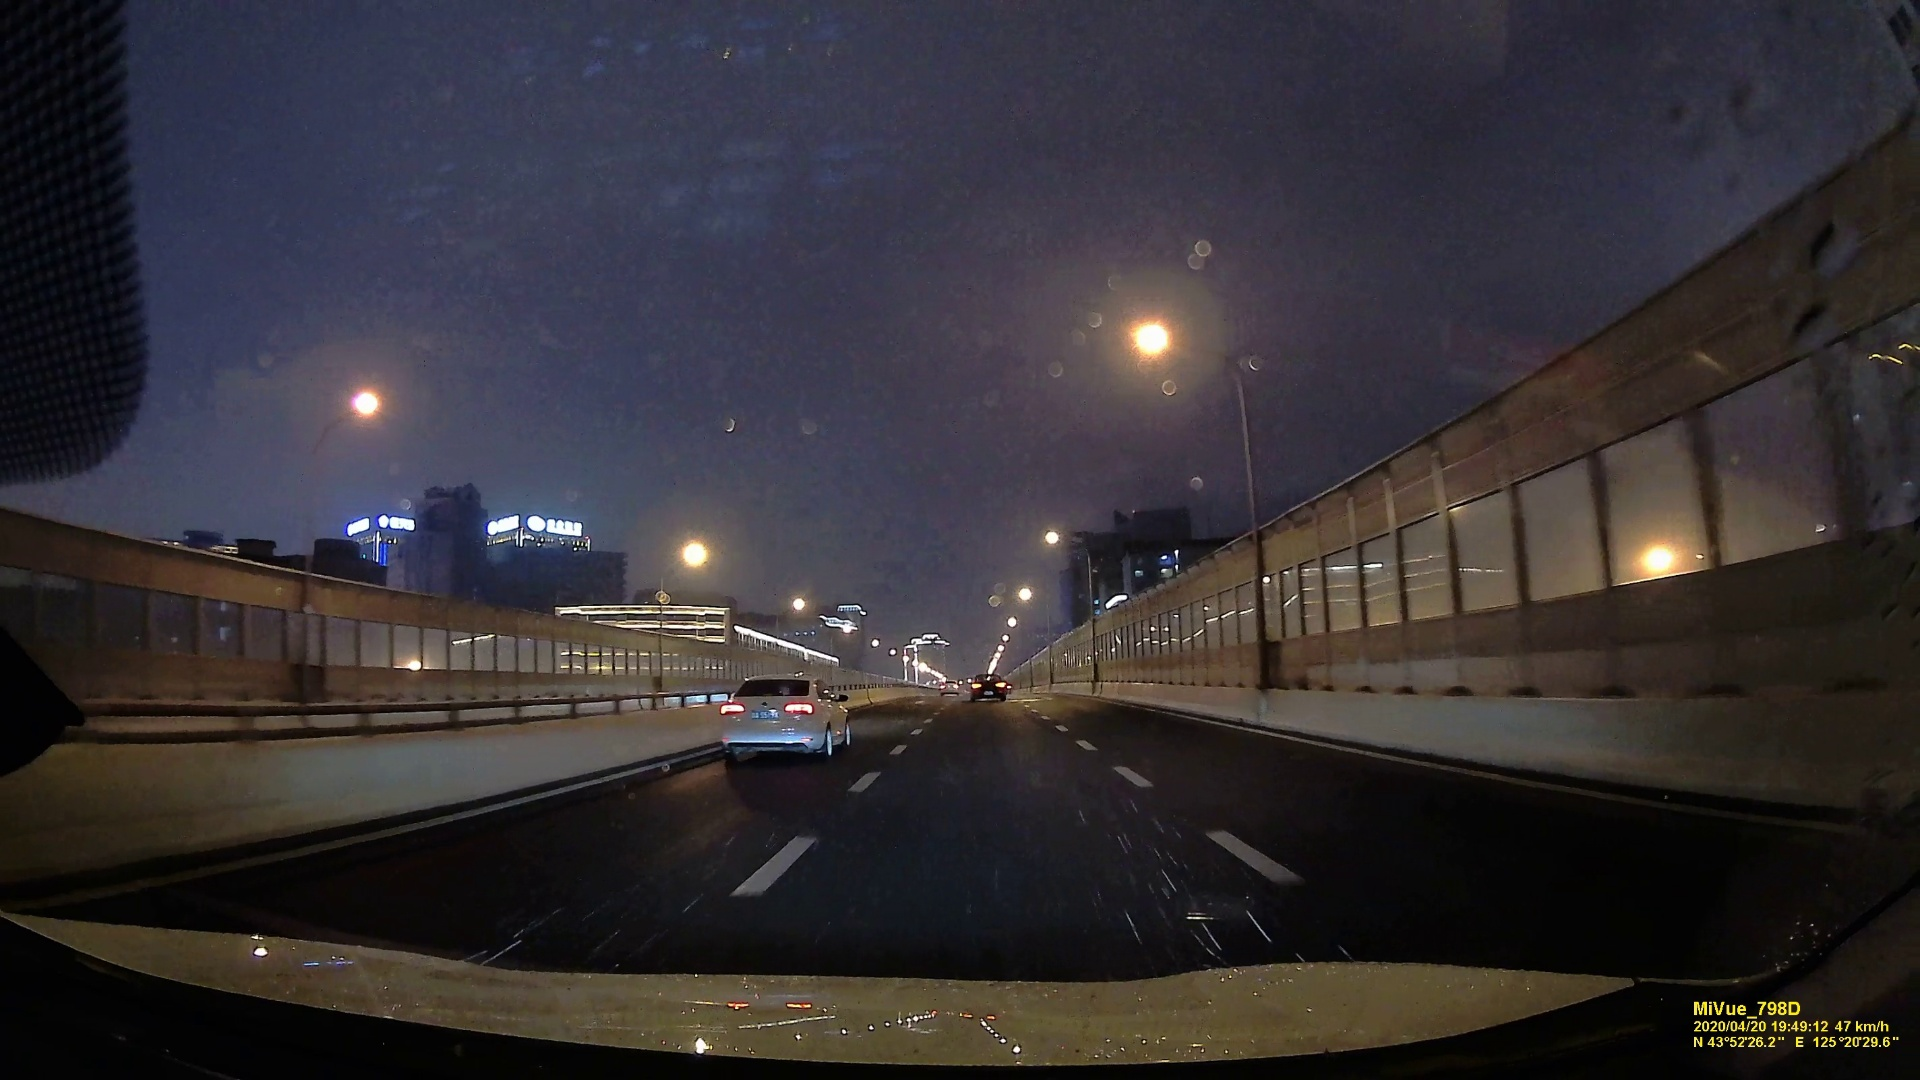vehicle: (717, 673, 853, 761), (971, 673, 1006, 700)
